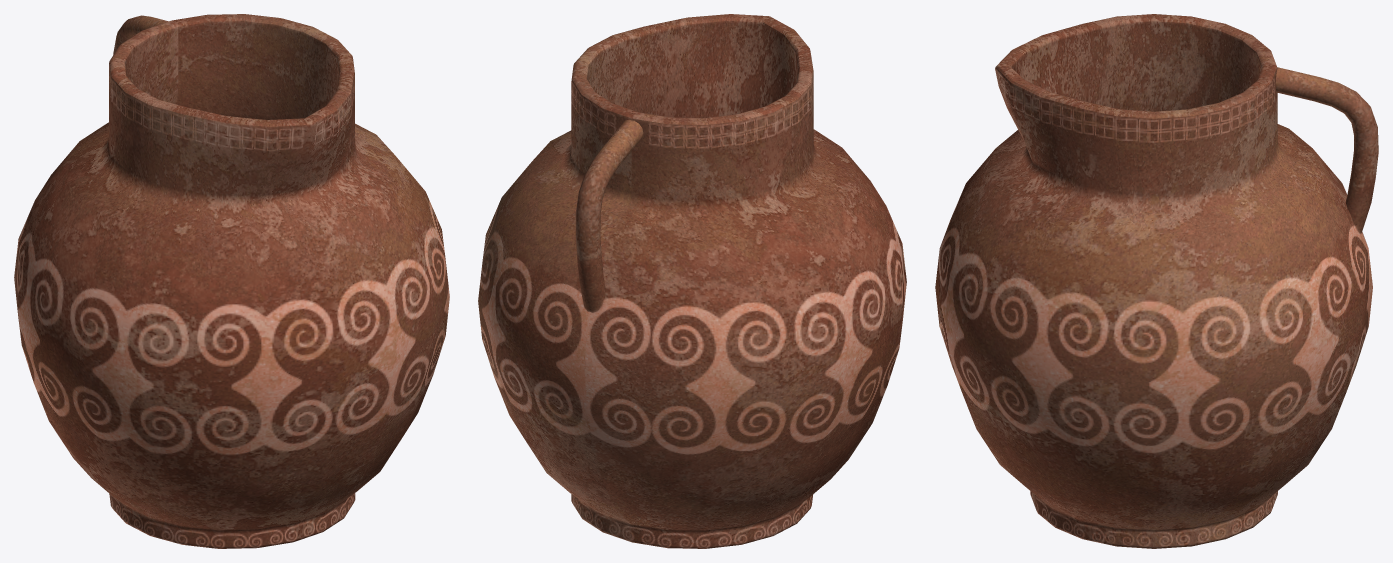
The model's file is jug.glb.
The picture shows the model from 3 angles, left to right: view 1: azimuth 30°, elevation 25°; view 2: azimuth 150°, elevation 25°; view 3: azimuth 270°, elevation 25°; orthographic projection.
Visible parts, largest first — view 1: jug; view 2: jug; view 3: jug.
Part boxes in pixels (x1,y1,x2,y2): jug: (14,14,449,548); jug: (478,14,906,548); jug: (935,14,1378,548).
Size of the model in its own units: 0.9146 by 1 by 0.9264.
1 material, 1 textured.
